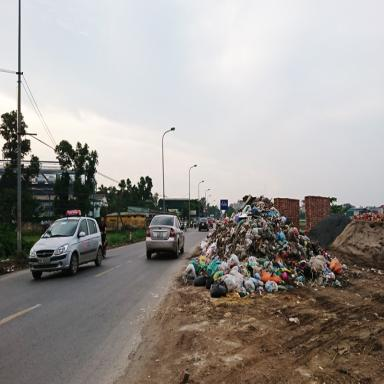plasticbag: (180, 190, 357, 306)
